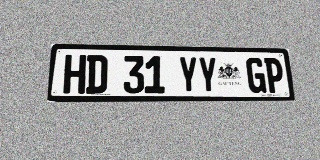1: (145, 56, 165, 93)
3: (124, 56, 144, 93)
D: (86, 55, 108, 94)
G: (246, 57, 267, 93)
H: (63, 55, 86, 94)
P: (264, 58, 285, 93)
Y: (178, 56, 198, 93), (198, 57, 218, 93)
